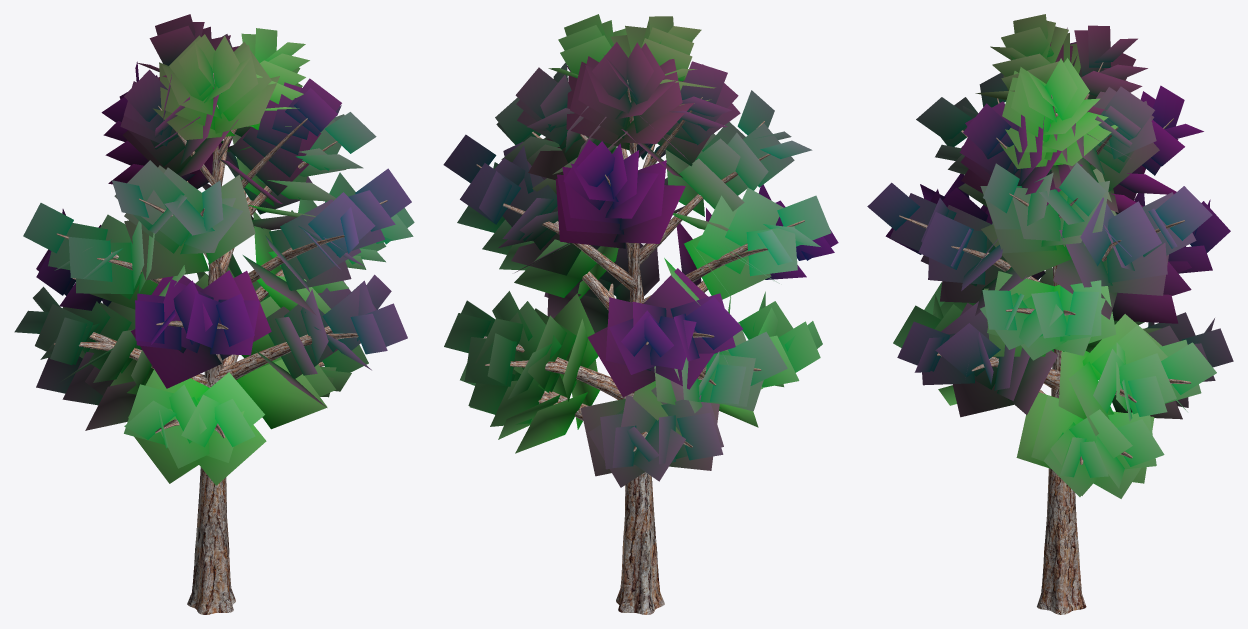
The model's file is myTree_03.fbx.
3 renders of one model, left to right at view 1: azimuth 30°, elevation 25°; view 2: azimuth 150°, elevation 25°; view 3: azimuth 270°, elevation 25°, orthographic.
Parts seen in each view (by area): view 1: Tree_1, Tree_0; view 2: Tree_1, Tree_0; view 3: Tree_1, Tree_0.
Part boxes in pixels (x1,y1,x2,y2): Tree_1: [14, 14, 414, 485]; Tree_0: [54, 73, 387, 614]; Tree_1: [443, 14, 838, 487]; Tree_0: [476, 80, 804, 614]; Tree_1: [867, 14, 1233, 498]; Tree_0: [899, 62, 1190, 614].
Bounding box in the file's own units: 286 × 456 × 262.
1 material, 1 textured.
